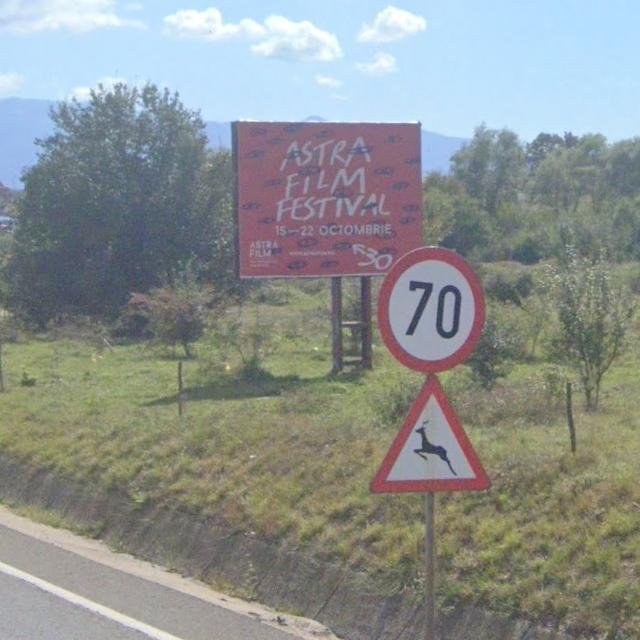forb_speed_over_70: (380, 247, 485, 376)
